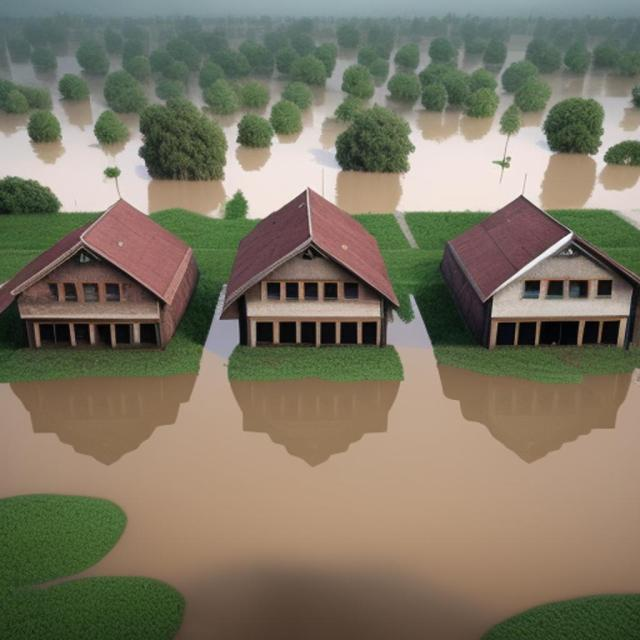flood: (0, 312, 640, 640), (0, 52, 640, 224), (9, 53, 78, 97), (509, 37, 528, 60)
house: (215, 181, 418, 364), (0, 193, 209, 361), (430, 185, 640, 351)
